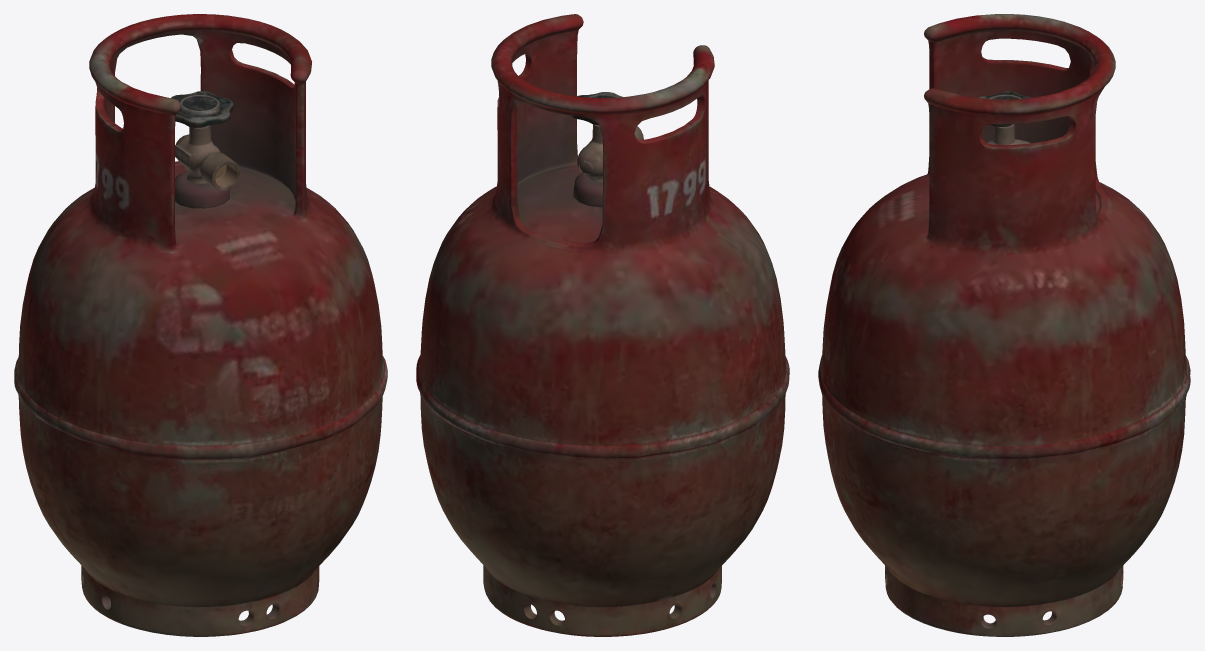
The model's file is lpg_tank.glb.
3 renders of one model, left to right at view 1: azimuth 30°, elevation 25°; view 2: azimuth 150°, elevation 25°; view 3: azimuth 270°, elevation 25°, orthographic.
Parts seen in each view (by area): view 1: small_lpg_tank; view 2: small_lpg_tank; view 3: small_lpg_tank.
Part boxes in pixels (<box>): small_lpg_tank: <box>14,14,387,636</box>; small_lpg_tank: <box>416,14,789,636</box>; small_lpg_tank: <box>818,14,1190,636</box>.
Size of the model in its own units: 0.41 by 0.642 by 0.4092.
1 material, 1 textured.
